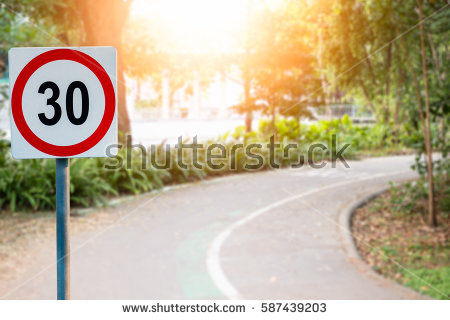Speed_limit_30km: (11, 48, 116, 155)
